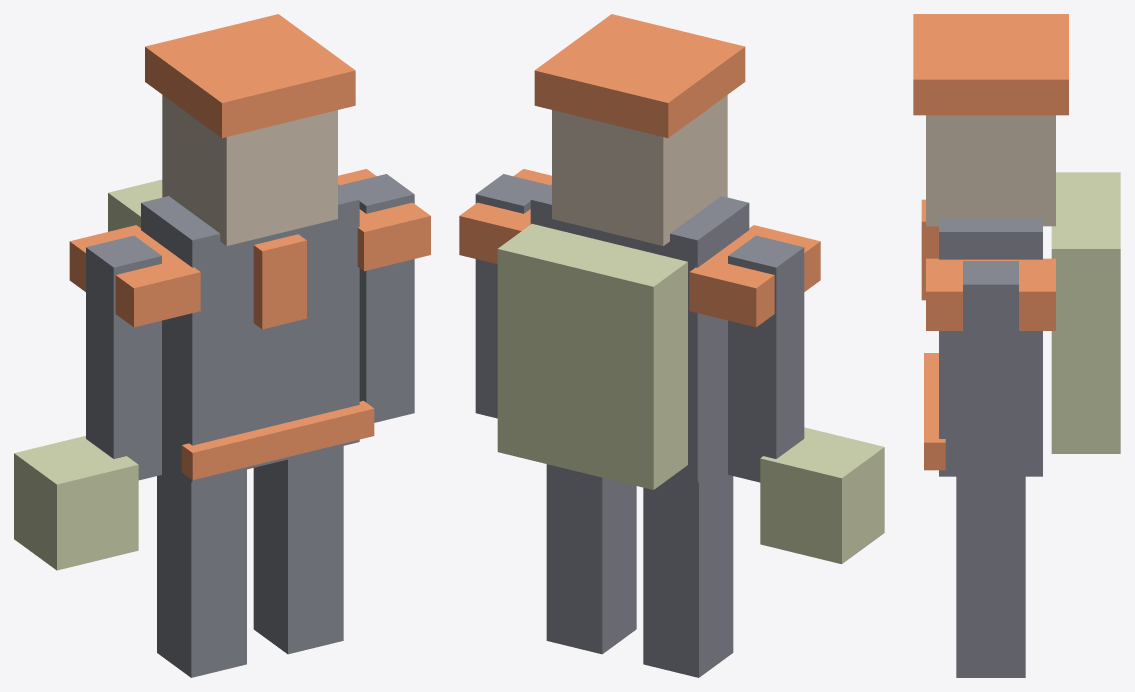
Rendered from 01_bex_rootborne_captain_under_upper.glb.
3 renders of one model, left to right at view 1: azimuth 30°, elevation 25°; view 2: azimuth 150°, elevation 25°; view 3: azimuth 270°, elevation 25°, orthographic.
Visible parts, largest first — view 1: Bex Rootborne, Captain under Upper; view 2: Bex Rootborne, Captain under Upper; view 3: Bex Rootborne, Captain under Upper.
Part boxes in pixels (x1,y1,x2,y2): Bex Rootborne, Captain under Upper: (14,14,430,677); Bex Rootborne, Captain under Upper: (459,14,884,677); Bex Rootborne, Captain under Upper: (913,14,1120,677).
Size of the model in its own units: 1.05 by 1.6 by 0.5071.
